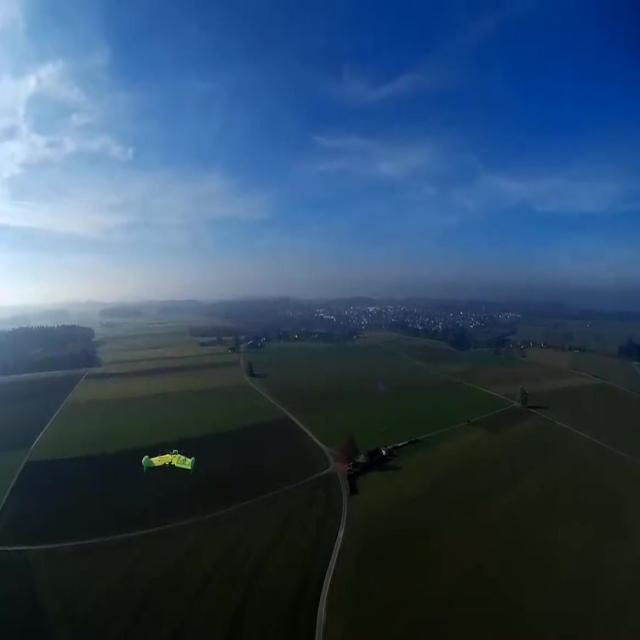iha: (141, 446, 195, 480)
